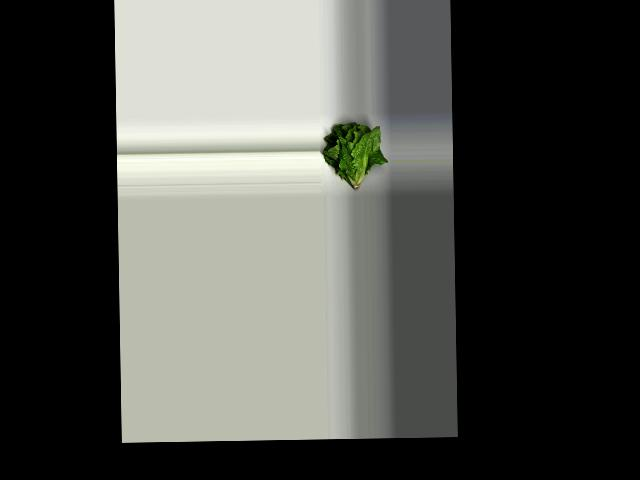lettuce: (322, 121, 387, 191)
